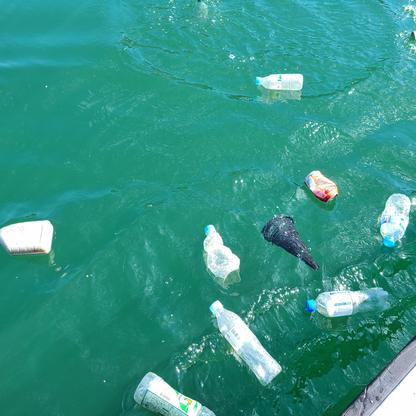can: (304, 171, 339, 201)
foam: (2, 220, 53, 254)
plastic bottle: (210, 300, 283, 384), (134, 372, 219, 416), (306, 286, 392, 316), (203, 223, 240, 278), (380, 193, 410, 247), (254, 73, 304, 90)
